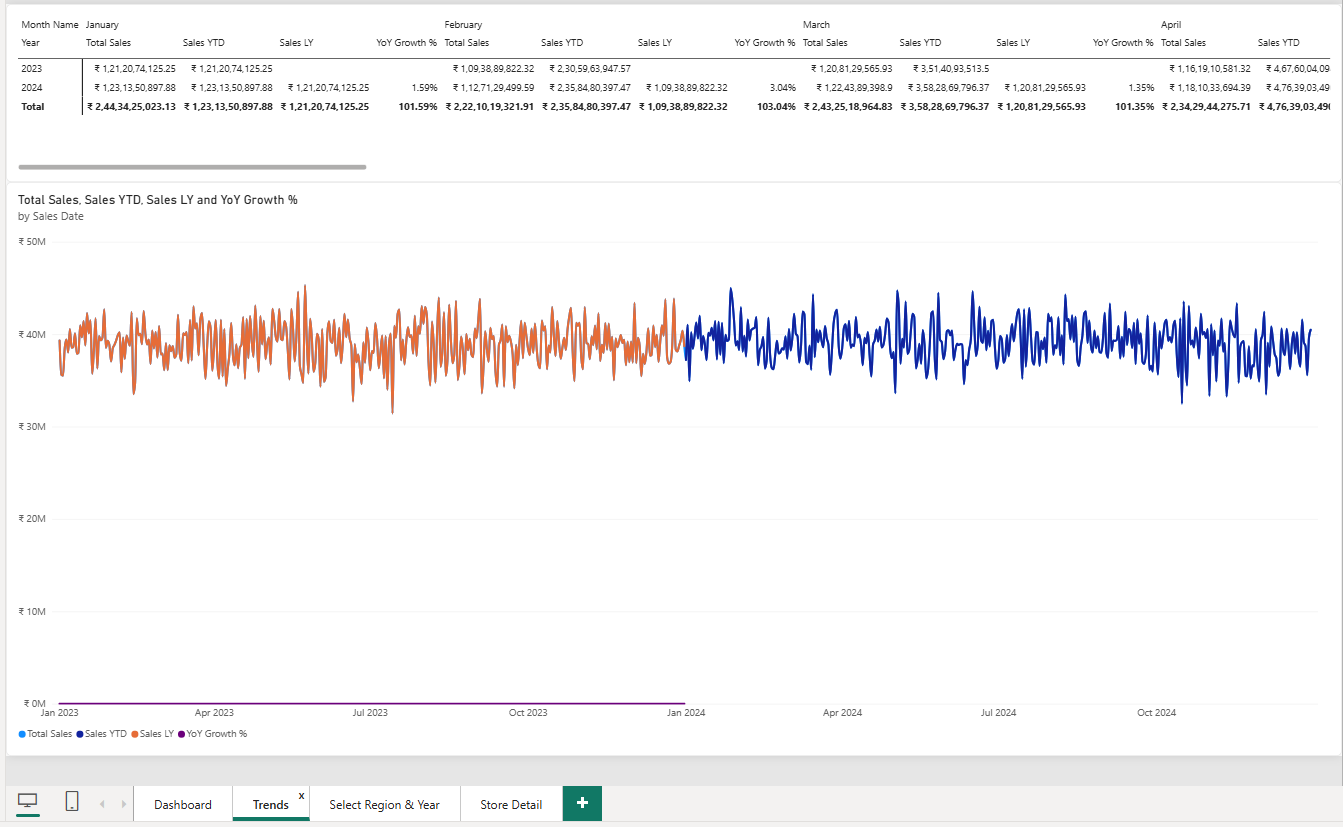

This screenshot's page, from the dashboard's own definition file:
{"tool":"powerbi","page":{"name":"Trends","canvas":[1920,1080],"ordinal":1},"visuals":[{"type":"pivotTable","fields":{"Columns":["Date.Month Name"],"Rows":["Date.Year"],"Values":["Sales.Total Sales","Sales.Sales YTD","Sales.Sales LY","Sales.YoY Growth %"]},"box":[0,0,1920,255.8],"z":0},{"type":"lineChart","fields":{"Category":["Sales.Sales Date"],"Y":["Sales.Total Sales","Sales.Sales YTD","Sales.Sales LY","Sales.YoY Growth %"]},"box":[0,255.8,1920,824.9],"z":1000}]}

Visuals, with their boxes on the page's 1920x1080 design canvas (x1, y1, x2, y2). These are canvas units, not pixel positions in the 1343x827 screenshot, which may show the page scaled, cropped or inside an application window:
pivotTable - Date.Month Name x Date.Year: <box>0,0,1920,256</box>
lineChart - Sales.Sales Date x Sales.Total Sales: <box>0,256,1920,1081</box>
